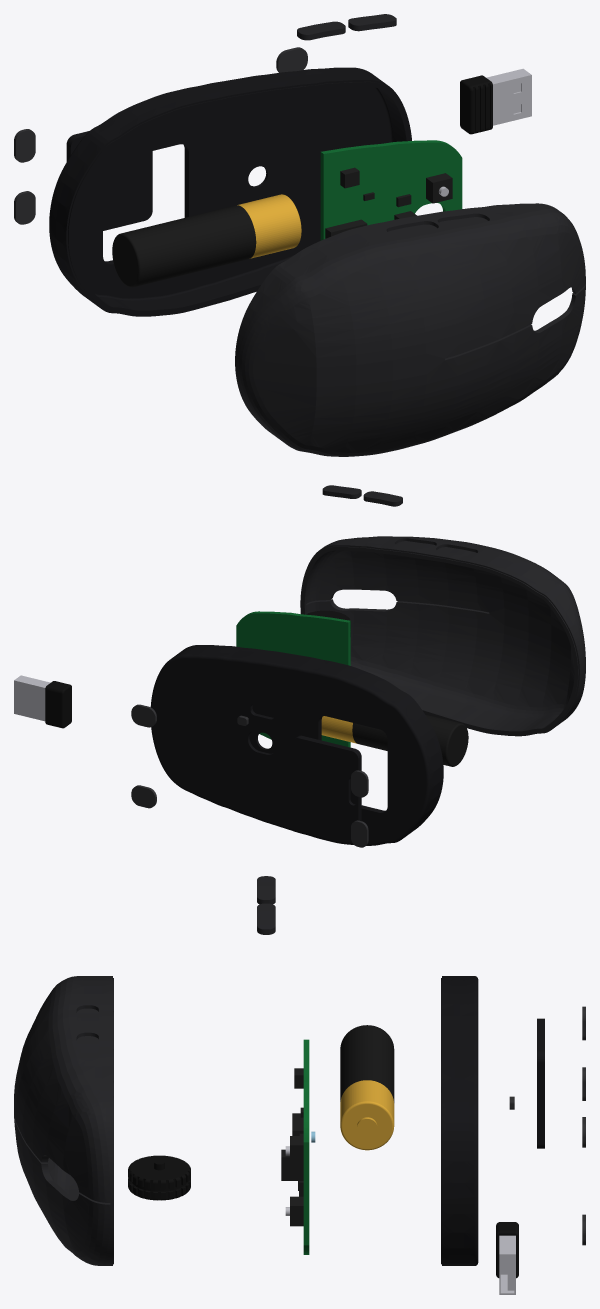
File: wireless_mouse_exploded.obj
3 renders of one model, top to bottom at view 1: azimuth 30°, elevation 25°; view 2: azimuth 150°, elevation 25°; view 3: azimuth 270°, elevation 25°, orthographic. The views are drawn at different scales.
Visible parts, largest first — view 1: top_shell, base, pcb, battery, battery_door, battery_cap, usb_receiver_plug, usb_receiver, pcb_components, side_button_rear, foot_1, side_button_front (+2 smaller); view 2: top_shell, base, battery_door, pcb, battery, usb_receiver_plug, usb_receiver, battery_cap, foot_1, foot_2; view 3: top_shell, base, battery_cap, battery, scroll_wheel, pcb_components, pcb, battery_door, usb_receiver_plug, usb_receiver, side_button_front.
Boxes of the visible parts, bbox=[...] form: top_shell: bbox=[235, 203, 585, 456]; base: bbox=[49, 67, 411, 316]; pcb: bbox=[320, 140, 462, 240]; battery: bbox=[112, 205, 256, 287]; battery_door: bbox=[66, 131, 152, 230]; battery_cap: bbox=[237, 194, 301, 258]; usb_receiver_plug: bbox=[486, 68, 531, 125]; usb_receiver: bbox=[460, 75, 492, 134]; pcb_components: bbox=[325, 167, 452, 238]; side_button_rear: bbox=[297, 21, 345, 40]; foot_1: bbox=[276, 47, 307, 72]; side_button_front: bbox=[348, 14, 396, 31]; top_shell: bbox=[300, 536, 585, 736]; base: bbox=[150, 645, 443, 845]; battery_door: bbox=[292, 735, 361, 830]; pcb: bbox=[236, 611, 350, 747]; battery: bbox=[352, 714, 468, 766]; usb_receiver_plug: bbox=[14, 675, 50, 721]; usb_receiver: bbox=[45, 681, 71, 728]; battery_cap: bbox=[321, 716, 356, 743]; foot_1: bbox=[131, 704, 156, 727]; foot_2: bbox=[131, 785, 156, 808]; top_shell: bbox=[14, 976, 113, 1265]; base: bbox=[441, 976, 478, 1265]; battery_cap: bbox=[340, 1080, 394, 1150]; battery: bbox=[340, 1025, 394, 1102]; scroll_wheel: bbox=[128, 1155, 190, 1200]; pcb_components: bbox=[281, 1068, 303, 1226]; pcb: bbox=[303, 1039, 309, 1254]; battery_door: bbox=[537, 1018, 544, 1148]; usb_receiver_plug: bbox=[499, 1235, 515, 1294]; usb_receiver: bbox=[496, 1222, 518, 1278]; side_button_front: bbox=[257, 903, 275, 934].
Size of the model in its own units: 150 by 98.53 by 154.
